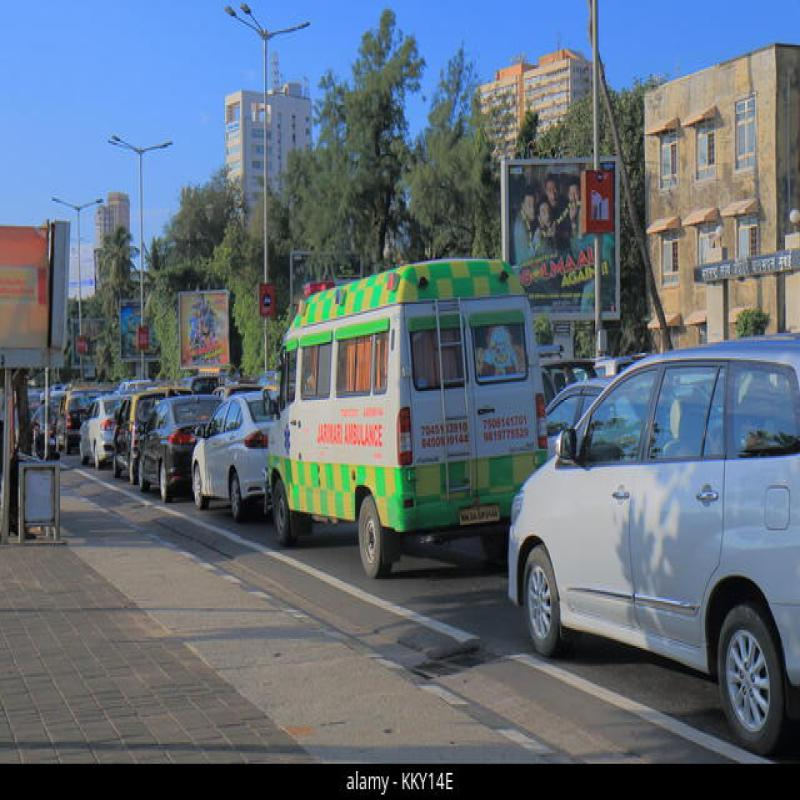ambulance: (263, 279, 557, 513)
